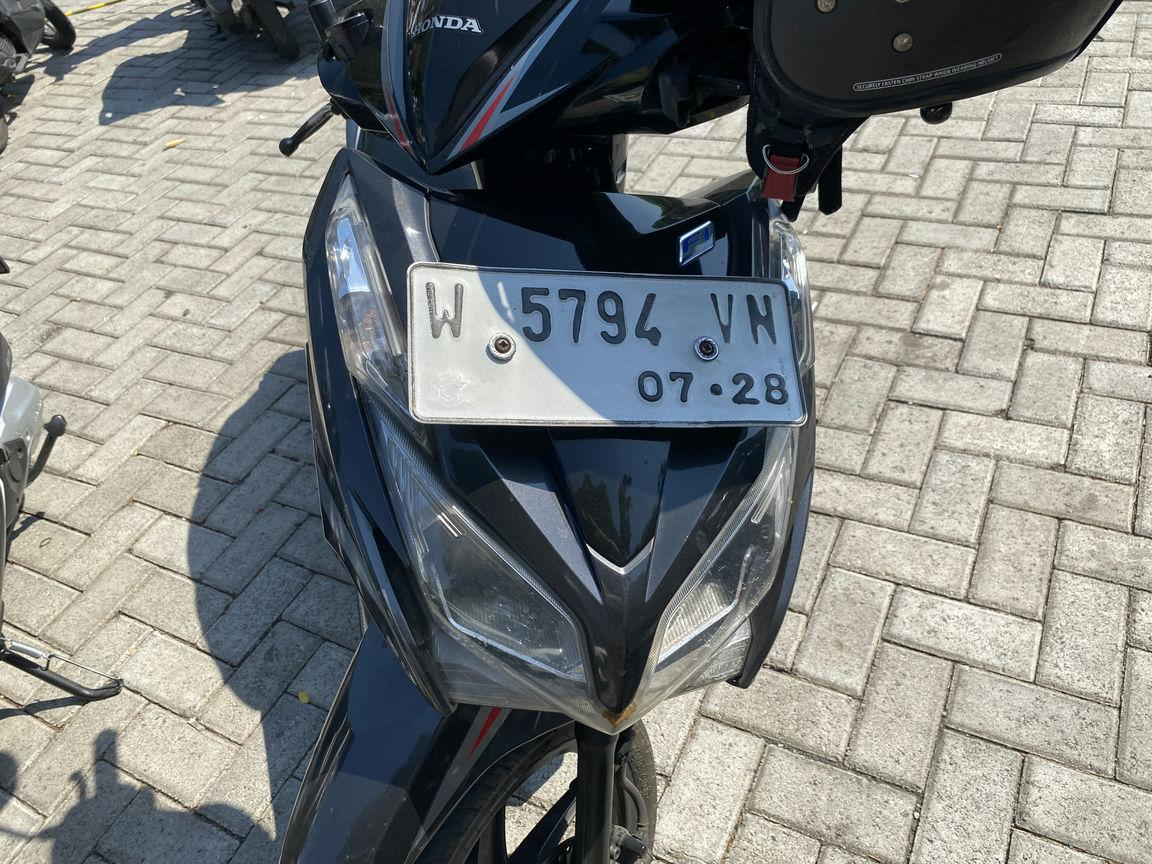plat: (407, 263, 806, 428)
